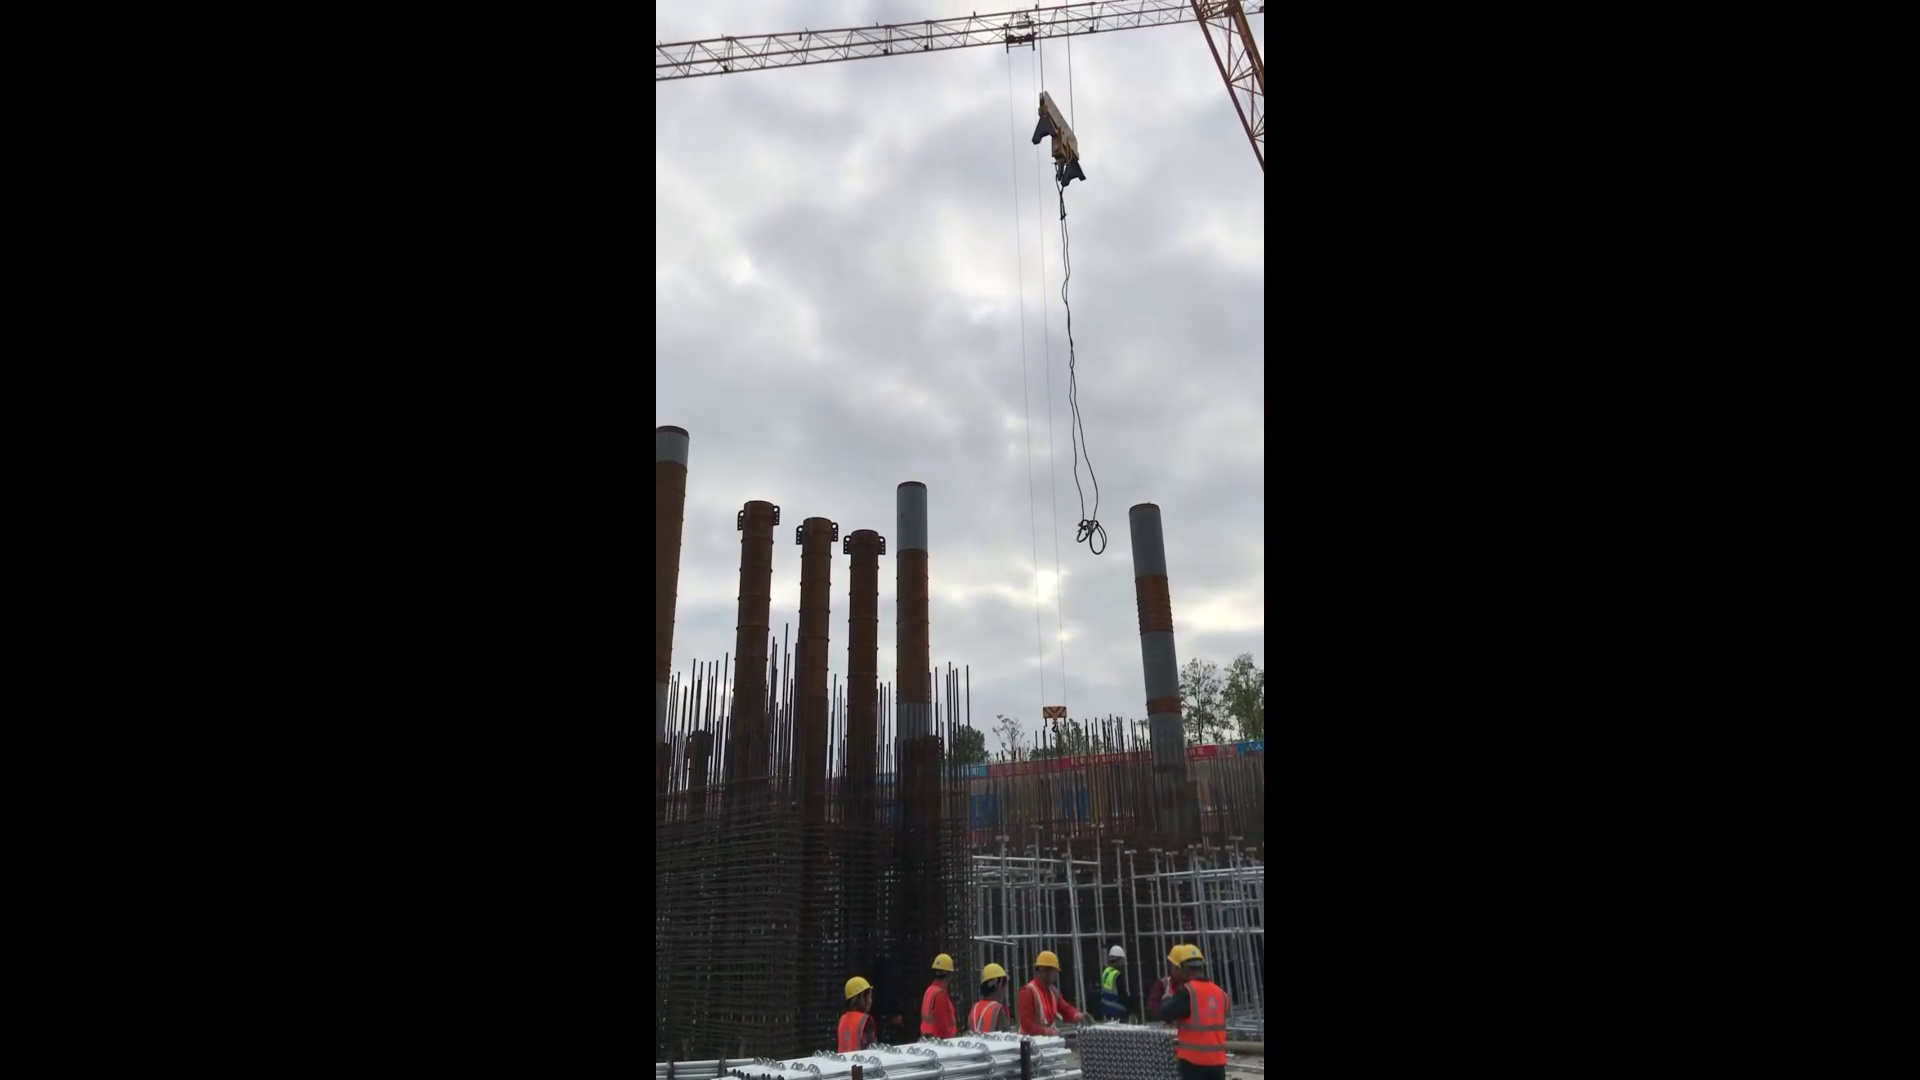helmet: (841, 976, 874, 1002), (976, 961, 1010, 987), (1178, 943, 1208, 968), (1034, 950, 1062, 973), (1164, 944, 1187, 972), (930, 951, 955, 975), (1107, 944, 1127, 963)
person: (1169, 943, 1235, 1080), (1013, 948, 1083, 1041), (914, 950, 963, 1042), (832, 971, 881, 1057), (965, 959, 1017, 1038), (1095, 941, 1137, 1025), (1146, 942, 1185, 1026)
vest: (1178, 980, 1232, 1071), (918, 984, 959, 1039), (1023, 977, 1061, 1032), (1099, 964, 1131, 1022), (835, 1009, 874, 1056), (968, 1000, 1006, 1036)
